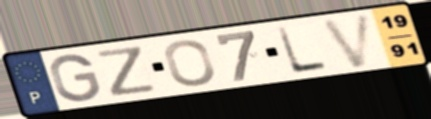7: (213, 29, 258, 83)
G: (49, 52, 104, 104)
L: (274, 25, 332, 75)
O: (162, 38, 218, 89)
V: (318, 11, 375, 70)
Z: (94, 44, 159, 99)
